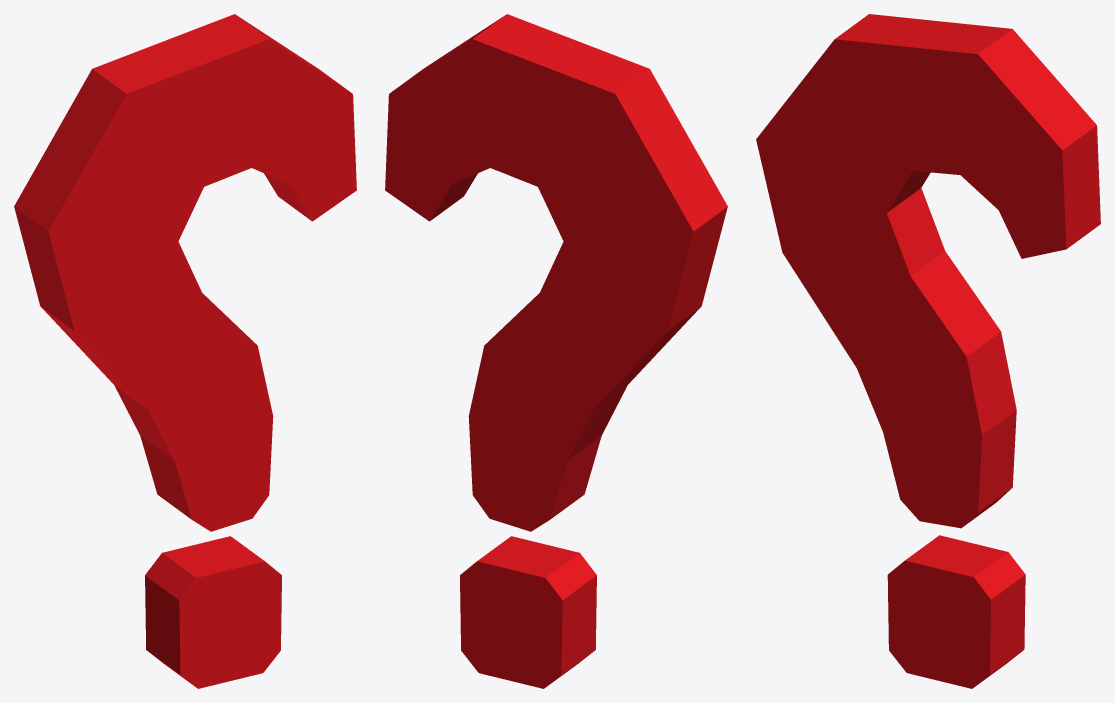
File: Mark2.fbx
3 renders of one model, left to right at view 1: azimuth 30°, elevation 25°; view 2: azimuth 150°, elevation 25°; view 3: azimuth 330°, elevation 25°, orthographic.
Visible parts, largest first — view 1: Plane.002; view 2: Plane.002; view 3: Plane.002.
Boxes of the visible parts, box(x1,y1,x2,y2) form: Plane.002: box(14, 14, 356, 688); Plane.002: box(385, 14, 727, 688); Plane.002: box(756, 14, 1100, 688).
Bounding box in the file's own units: 43.94 × 86.08 × 8.48.
